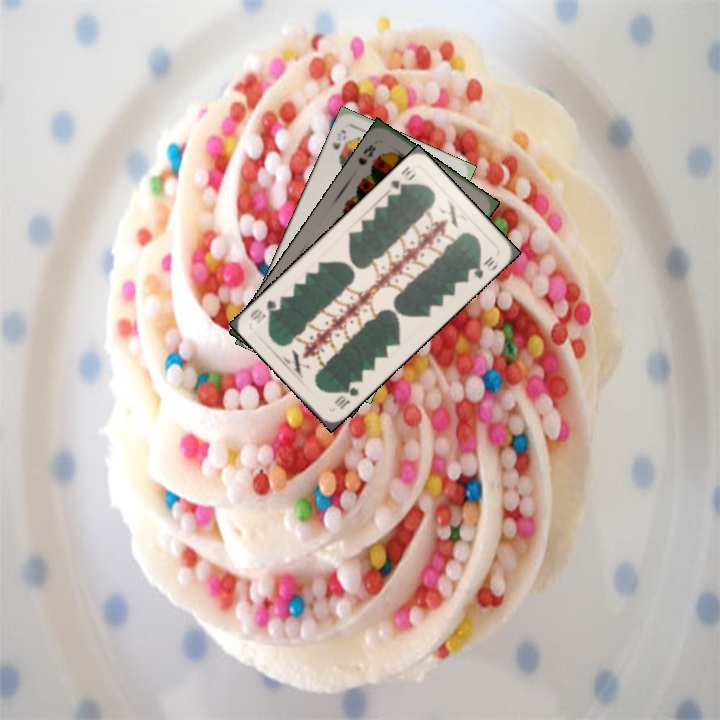G10: (330, 376, 361, 413), (387, 162, 419, 193)
S8: (354, 140, 379, 168)
SO: (328, 125, 349, 152)
